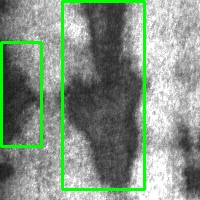patches: (62, 1, 144, 189), (1, 42, 41, 146)
